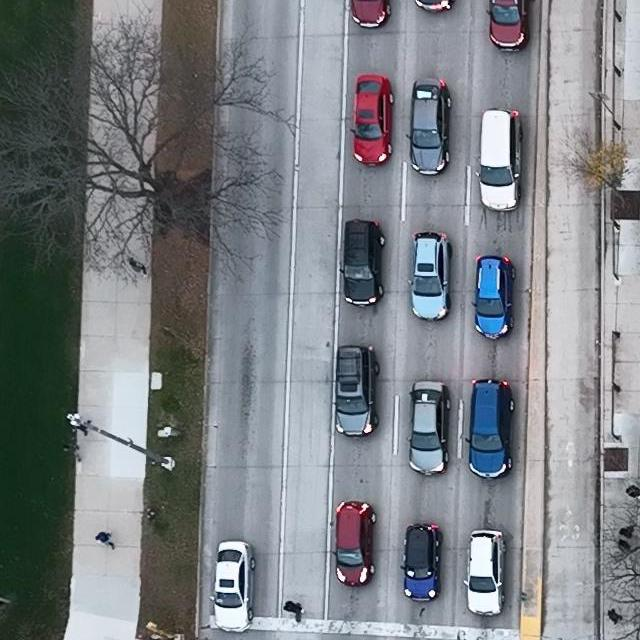car: (474, 108, 524, 213), (465, 378, 515, 482), (405, 79, 453, 176), (331, 344, 380, 438), (407, 380, 452, 476), (210, 540, 256, 633), (349, 74, 395, 166), (339, 218, 386, 308), (408, 230, 454, 321), (329, 500, 376, 588), (461, 528, 507, 616), (471, 256, 516, 339), (399, 523, 443, 604), (485, 0, 531, 53), (349, 0, 392, 29), (413, 0, 456, 15)
